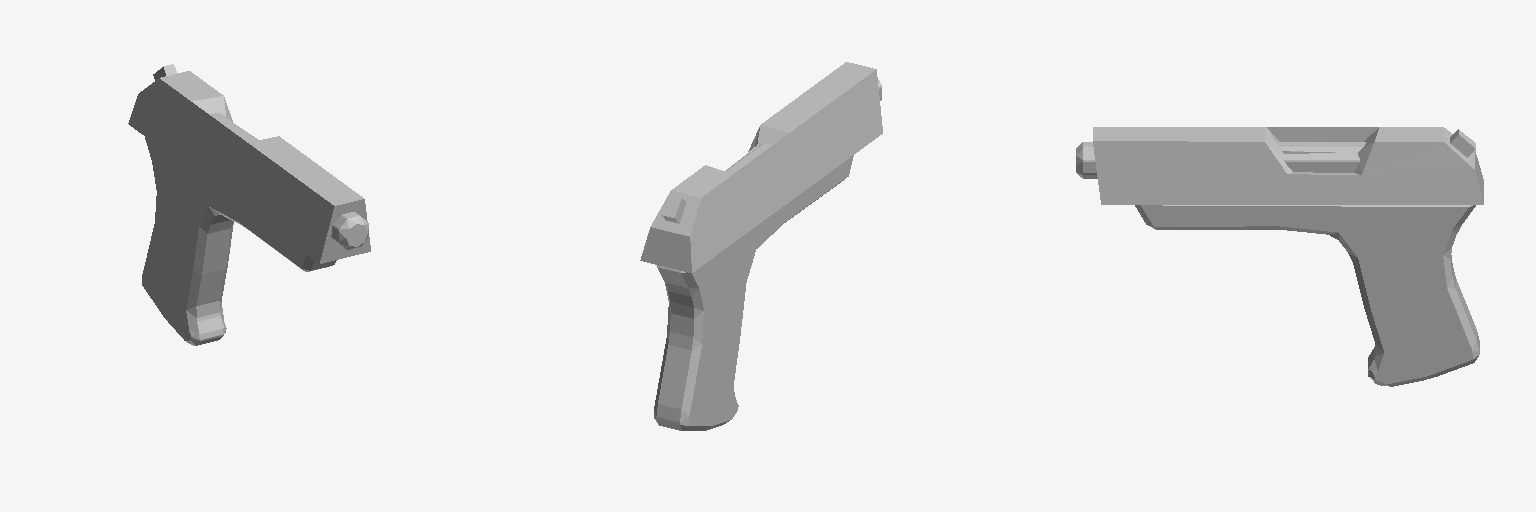
Rendered from mdl_pistol.obj.
3 renders of one model, left to right at view 1: azimuth 30°, elevation 25°; view 2: azimuth 150°, elevation 25°; view 3: azimuth 270°, elevation 25°, orthographic.
Parts seen in each view (by area): view 1: Line001, Line002, Cylinder001; view 2: Line001, Line002; view 3: Line001, Line002, Cylinder001.
Part boxes in pixels (x1,y1,x2,y2): Line001: (128,64,370,263); Line002: (142,137,336,345); Cylinder001: (209,113,368,249); Line001: (640,62,882,272); Line002: (654,155,853,430); Line001: (1093,127,1483,204); Line002: (1135,205,1479,386); Cylinder001: (1076,142,1365,178).
Size of the model in its own units: 0.0882 by 0.407 by 0.6012.